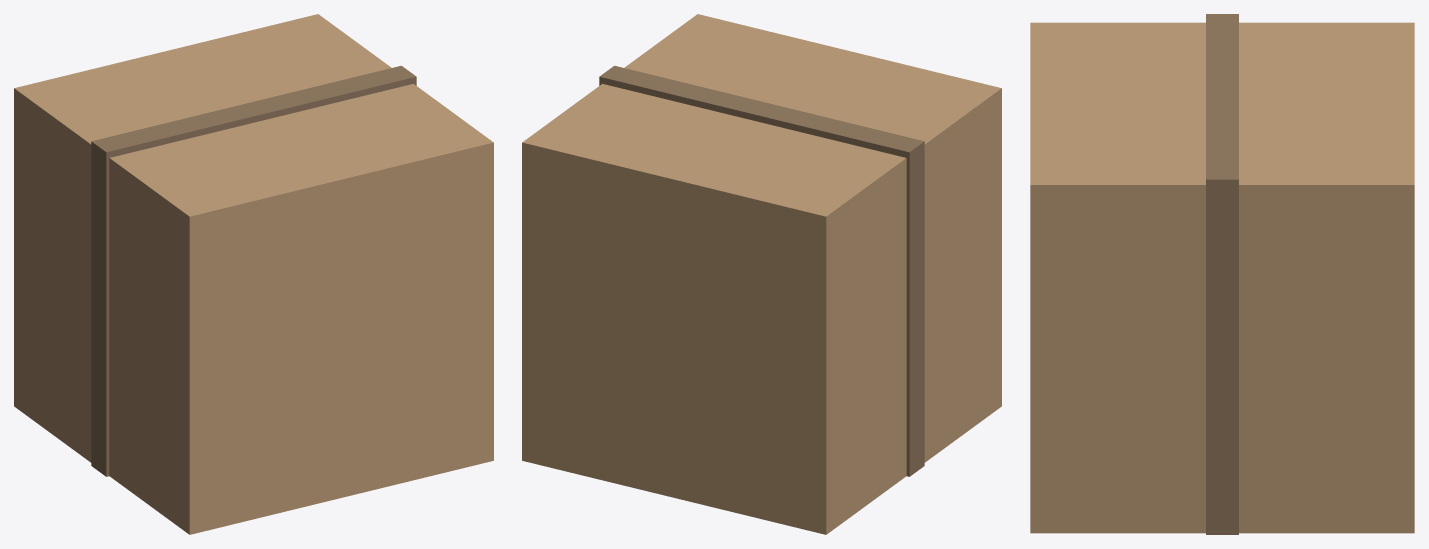
The model's file is Prop_Dress_AMF_Crate_V8.glb.
3 views of the same model, side by side, from view 1: azimuth 30°, elevation 25°; view 2: azimuth 150°, elevation 25°; view 3: azimuth 270°, elevation 25° (orthographic). The views are drawn at different scales.
Parts seen in each view (by area): view 1: Prop_Dress_AMF_Crate_V8; view 2: Prop_Dress_AMF_Crate_V8; view 3: Prop_Dress_AMF_Crate_V8.
Boxes of the visible parts, x1,y1,x2,y2 form: Prop_Dress_AMF_Crate_V8: [14, 14, 493, 534]; Prop_Dress_AMF_Crate_V8: [522, 14, 1001, 534]; Prop_Dress_AMF_Crate_V8: [1030, 14, 1414, 534].
Bounding box in the file's own units: 0.714 × 0.714 × 0.7.
